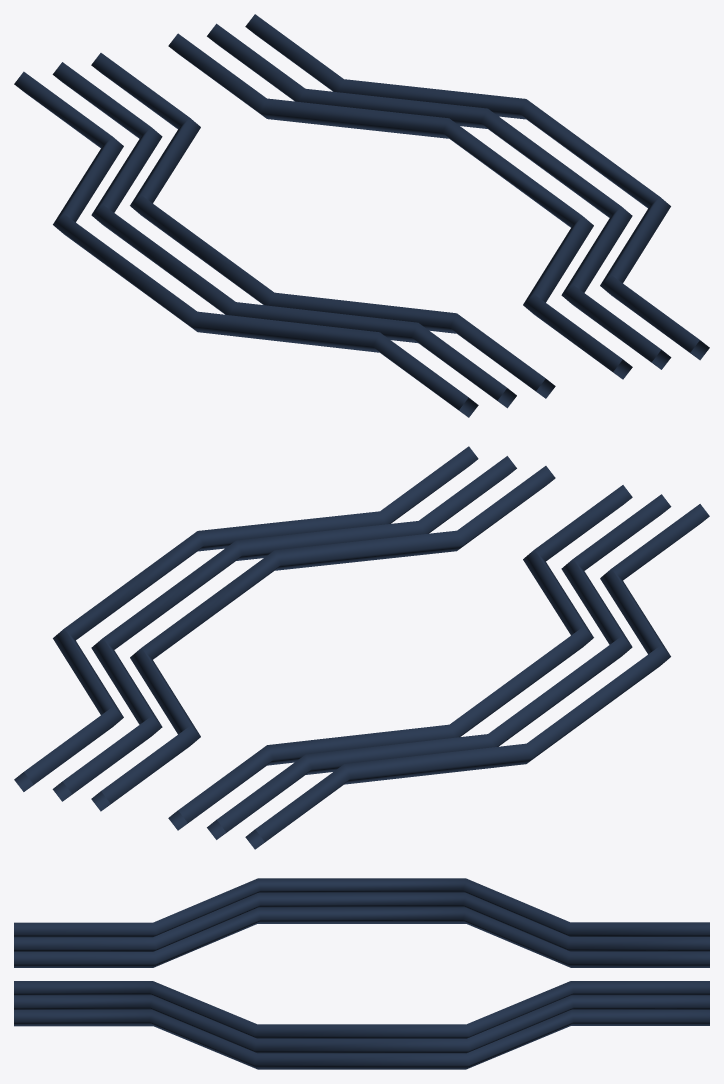
The model's file is Connector.fbx.
3 views of the same model, one above another, from view 1: azimuth 30°, elevation 25°; view 2: azimuth 150°, elevation 25°; view 3: azimuth 270°, elevation 25° (orthographic). The views are drawn at different scales.
Visible parts, largest first — view 1: Connector; view 2: Connector; view 3: Connector.
Part boxes in pixels (bbox=[...]): Connector: bbox=[14, 14, 709, 417]; Connector: bbox=[14, 446, 709, 849]; Connector: bbox=[14, 878, 709, 1069].
Size of the model in its own units: 125 by 5.61 by 200.
